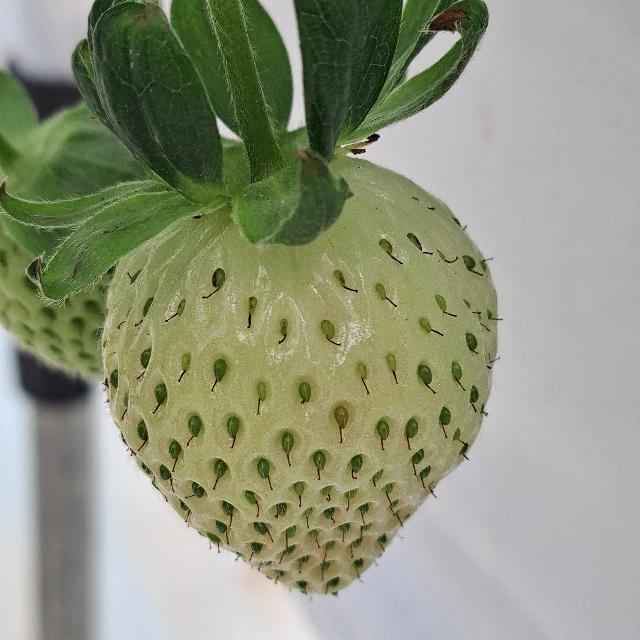Health_25: (101, 155, 496, 595)
